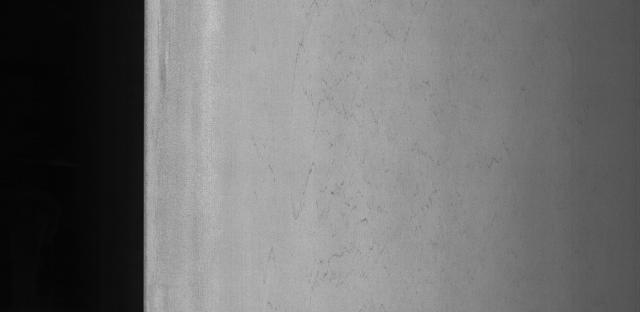silk_spot: (278, 0, 429, 279)
